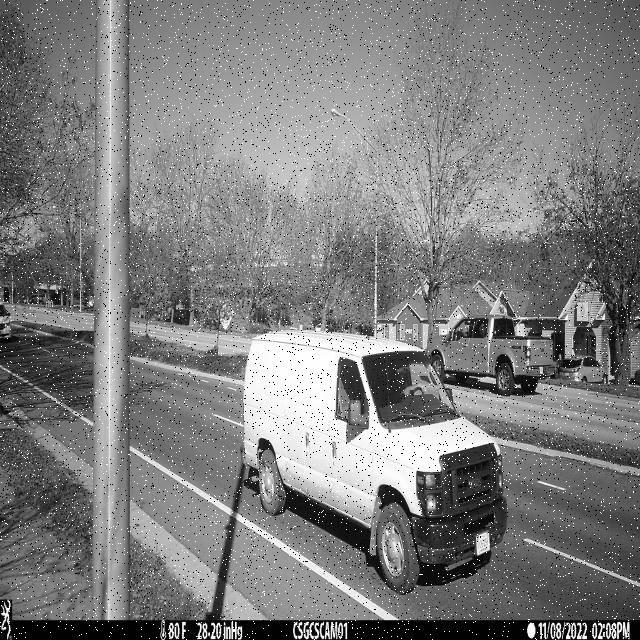Van: (240, 326, 508, 596)
